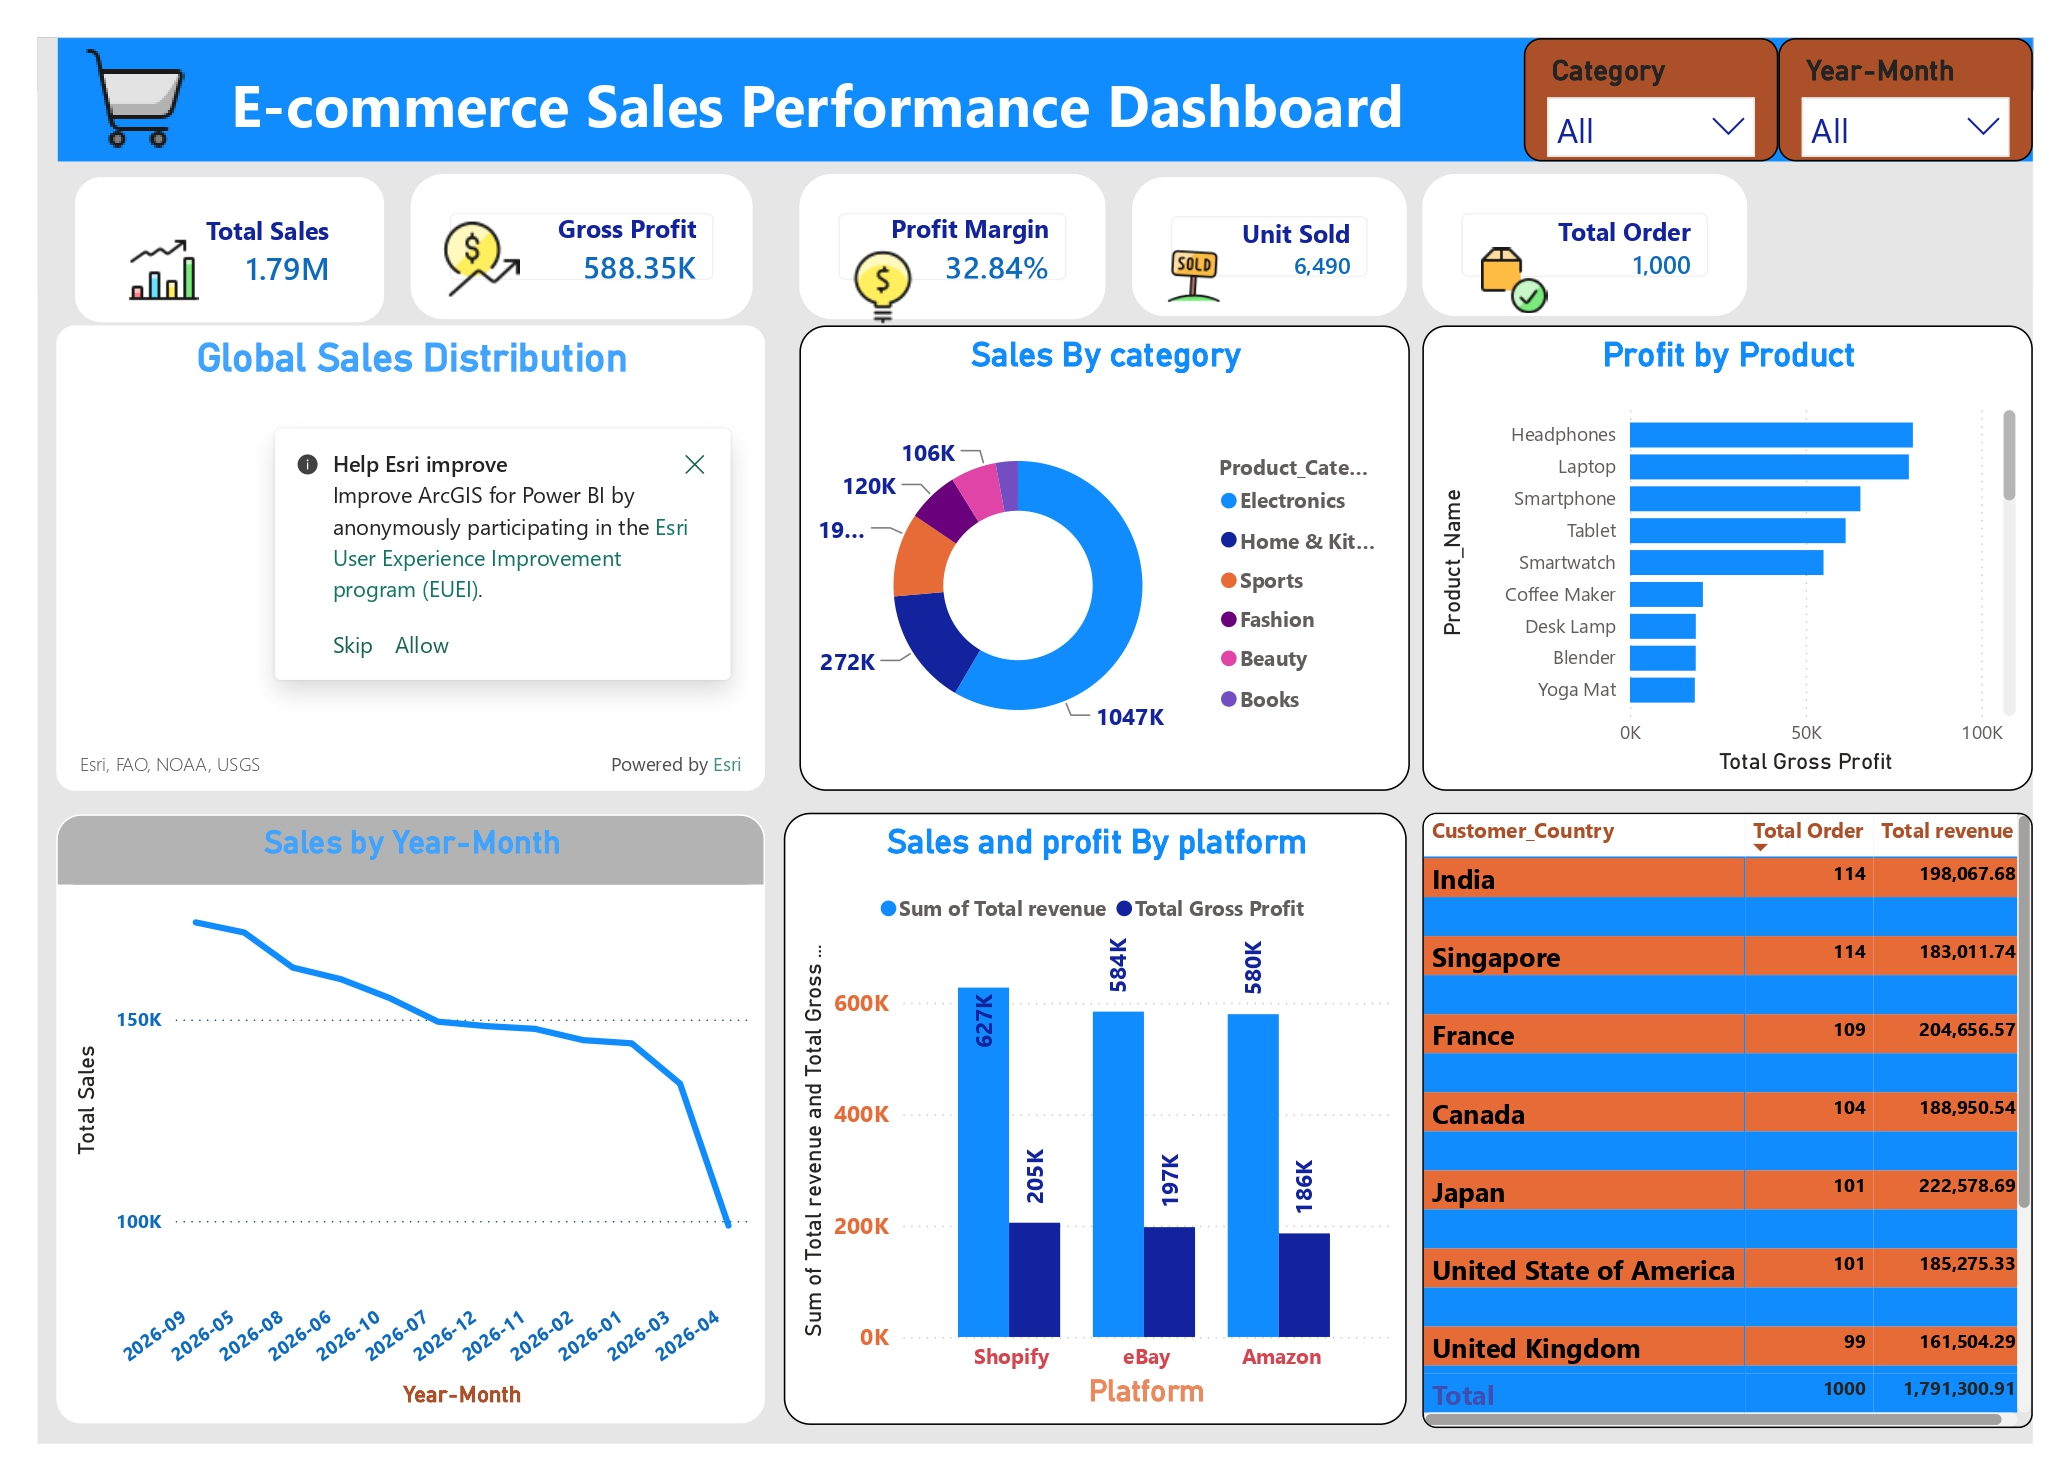

The page's visual inventory and layout, read from the dashboard file:
{"tool":"powerbi","page":{"name":"Dashboard","canvas":[1278,900],"ordinal":0},"visuals":[{"type":"textbox","box":[12.6,0,1266,79],"z":0},{"type":"esriVisual","title":"Global Sales Distribution ","fields":{"Size":["Sum(Ecom_Sales_Data.Total revenue)"],"Location":["Ecom_Sales_Data.Customer_Country"]},"box":[12,184,454,298],"z":1000},{"type":"donutChart","title":"Sales By category","fields":{"Category":["Ecom_Sales_Data.Product_Category"],"Y":["Sum(Ecom_Sales_Data.Total revenue)"]},"box":[488,184,391.2,297.9],"z":2000},{"type":"cardVisual","fields":{"Data":["Ecom_Sales_Data.Total Gross Profit"]},"box":[239,87,219,93],"z":3000},{"type":"cardVisual","fields":{"Data":["Ecom_Sales_Data.Profit Margin"]},"box":[488,87,196,93],"z":4000},{"type":"cardVisual","fields":{"Data":["Ecom_Sales_Data.Unit Sold Display"]},"box":[701,89,176,89],"z":5000},{"type":"cardVisual","fields":{"Data":["Calendar.Total Order display"]},"box":[887,87,208,91],"z":6000},{"type":"cardVisual","fields":{"Data":["Ecom_Sales_Data.Total Sales"]},"box":[24,89,198,93],"z":7000},{"type":"image","box":[16.9,7,90,63.3],"z":8000},{"type":"image","box":[54,126,53,44],"z":9000},{"type":"image","box":[259,112,50,58],"z":10000},{"type":"image","box":[515,134,54,50],"z":11000},{"type":"image","box":[715,134,52,36],"z":12000},{"type":"image","box":[913,134,66,42],"z":13000},{"type":"lineChart","title":"Sales by Year-Month","fields":{"Category":["Calendar.Year-Month"],"Y":["Ecom_Sales_Data.Total Sales"]},"box":[12.4,496.9,454.1,390.3],"z":14000},{"type":"clusteredBarChart","title":" Profit by Product","fields":{"Category":["Ecom_Sales_Data.Product_Name"],"Y":["Ecom_Sales_Data.Total Gross Profit"]},"box":[887,184,391,298],"z":15000},{"type":"pivotTable","fields":{"Rows":["Ecom_Sales_Data.Customer_Country"],"Values":["Ecom_Sales_Data.Total Order","Sum(Ecom_Sales_Data.Total revenue)"]},"box":[886.8,495.6,391.2,394],"z":16000},{"type":"slicer","fields":{"Values":["Calendar.Year-Month"]},"box":[1114.9,0,163.1,78.6],"z":17000},{"type":"slicer","fields":{"Values":["Ecom_Sales_Data.Product_Category"]},"box":[951.7,0,163.1,78.6],"z":17001},{"type":"clusteredColumnChart","title":"Sales and profit By platform","fields":{"Category":["Ecom_Sales_Data.Platform"],"Y":["Sum(Ecom_Sales_Data.Total revenue)","Ecom_Sales_Data.Total Gross Profit"]},"box":[477.7,495.6,399.5,392.6],"z":17002}]}

Visuals, with their boxes in screenshot pixels (x1, y1, x2, y2):
textbox: <region>73, 32, 2025, 154</region>
"Global Sales Distribution " esriVisual: <region>72, 316, 772, 775</region>
"Sales By category" donutChart: <region>806, 316, 1409, 775</region>
cardVisual - Ecom_Sales_Data.Total Gross Profit: <region>422, 166, 760, 310</region>
cardVisual - Ecom_Sales_Data.Profit Margin: <region>806, 166, 1108, 310</region>
cardVisual - Ecom_Sales_Data.Unit Sold Display: <region>1134, 170, 1406, 307</region>
cardVisual - Calendar.Total Order display: <region>1421, 166, 1742, 307</region>
cardVisual - Ecom_Sales_Data.Total Sales: <region>91, 170, 396, 313</region>
image: <region>80, 43, 219, 141</region>
image: <region>137, 227, 219, 294</region>
image: <region>453, 205, 530, 294</region>
image: <region>848, 239, 931, 316</region>
image: <region>1156, 239, 1236, 294</region>
image: <region>1461, 239, 1563, 304</region>
"Sales by Year-Month" lineChart: <region>73, 798, 773, 1400</region>
" Profit by Product" clusteredBarChart: <region>1421, 316, 2024, 775</region>
pivotTable - Ecom_Sales_Data.Customer_Country x Ecom_Sales_Data.Total Order: <region>1421, 796, 2024, 1404</region>
slicer - Calendar.Year-Month: <region>1772, 32, 2024, 154</region>
slicer - Ecom_Sales_Data.Product_Category: <region>1521, 32, 1772, 154</region>
"Sales and profit By platform" clusteredColumnChart: <region>790, 796, 1406, 1401</region>
